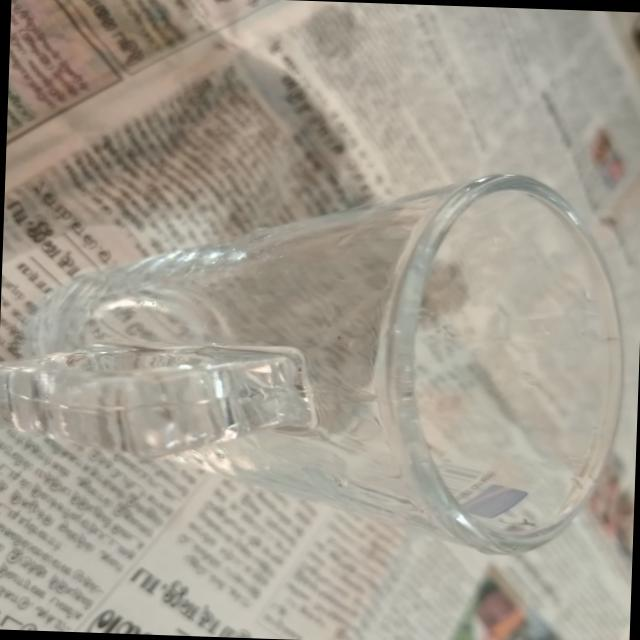glass-VX4N: (0, 147, 631, 559)
